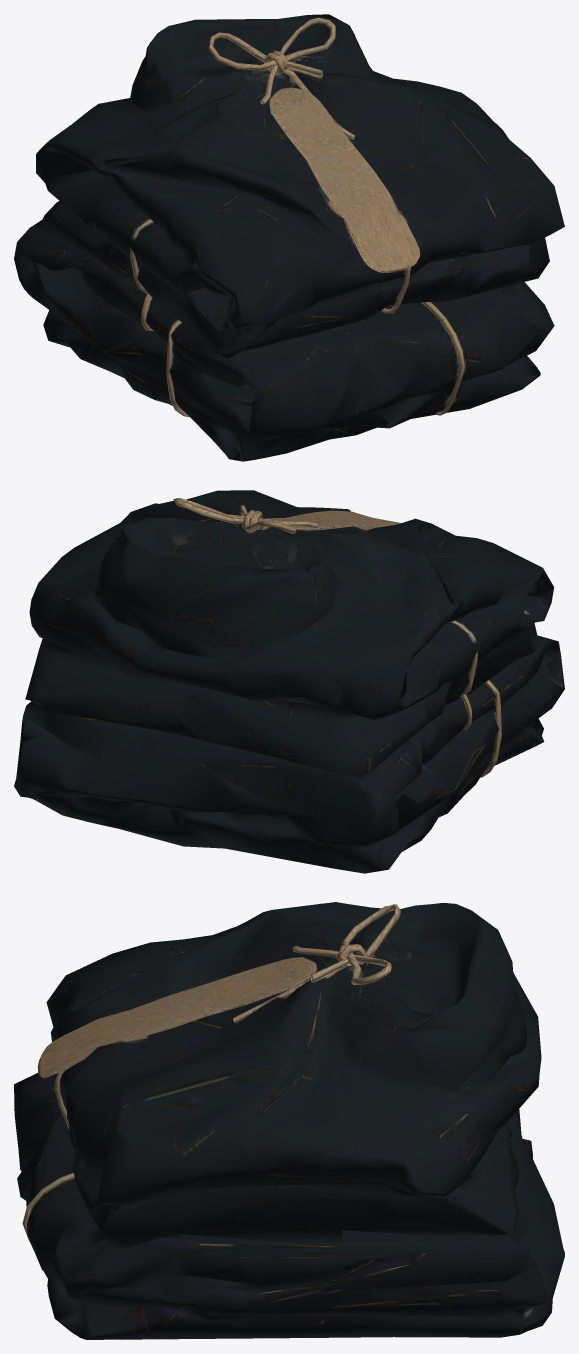
File: raincoat_bundle.glb
3 renders of one model, top to bottom at view 1: azimuth 30°, elevation 25°; view 2: azimuth 150°, elevation 25°; view 3: azimuth 270°, elevation 25°, orthographic. The views are drawn at different scales.
Size of the model in its own units: 0.5692 by 0.4045 by 0.6.
Materials: 1 (1 with a texture image).
